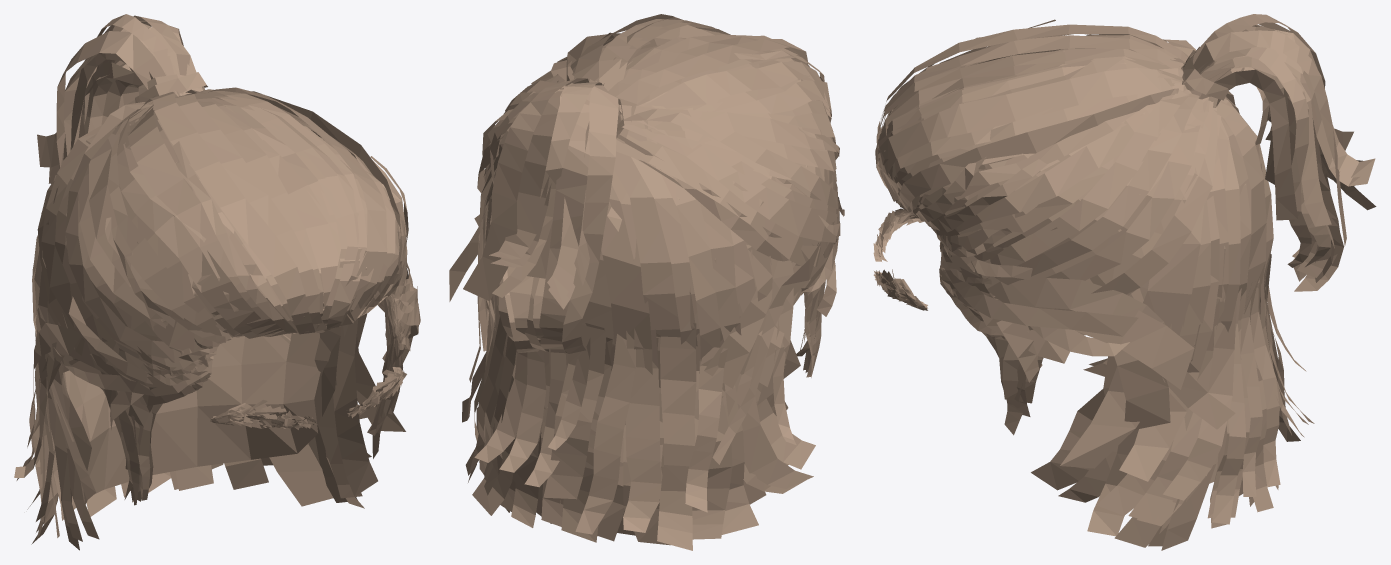
The model's file is male_hair_08_lod0.glb.
The picture shows the model from 3 angles, left to right: view 1: azimuth 30°, elevation 25°; view 2: azimuth 150°, elevation 25°; view 3: azimuth 270°, elevation 25°; orthographic projection. The views are drawn at different scales.
Visible parts, largest first — view 1: hair_08; view 2: hair_08; view 3: hair_08.
Part boxes in pixels (left/top/right/bottom): hair_08: left=14, top=14, right=420, bottom=550; hair_08: left=449, top=14, right=844, bottom=550; hair_08: left=873, top=14, right=1376, bottom=550.
Bounding box in the file's own units: 0.1832 × 0.2433 × 0.2371.
